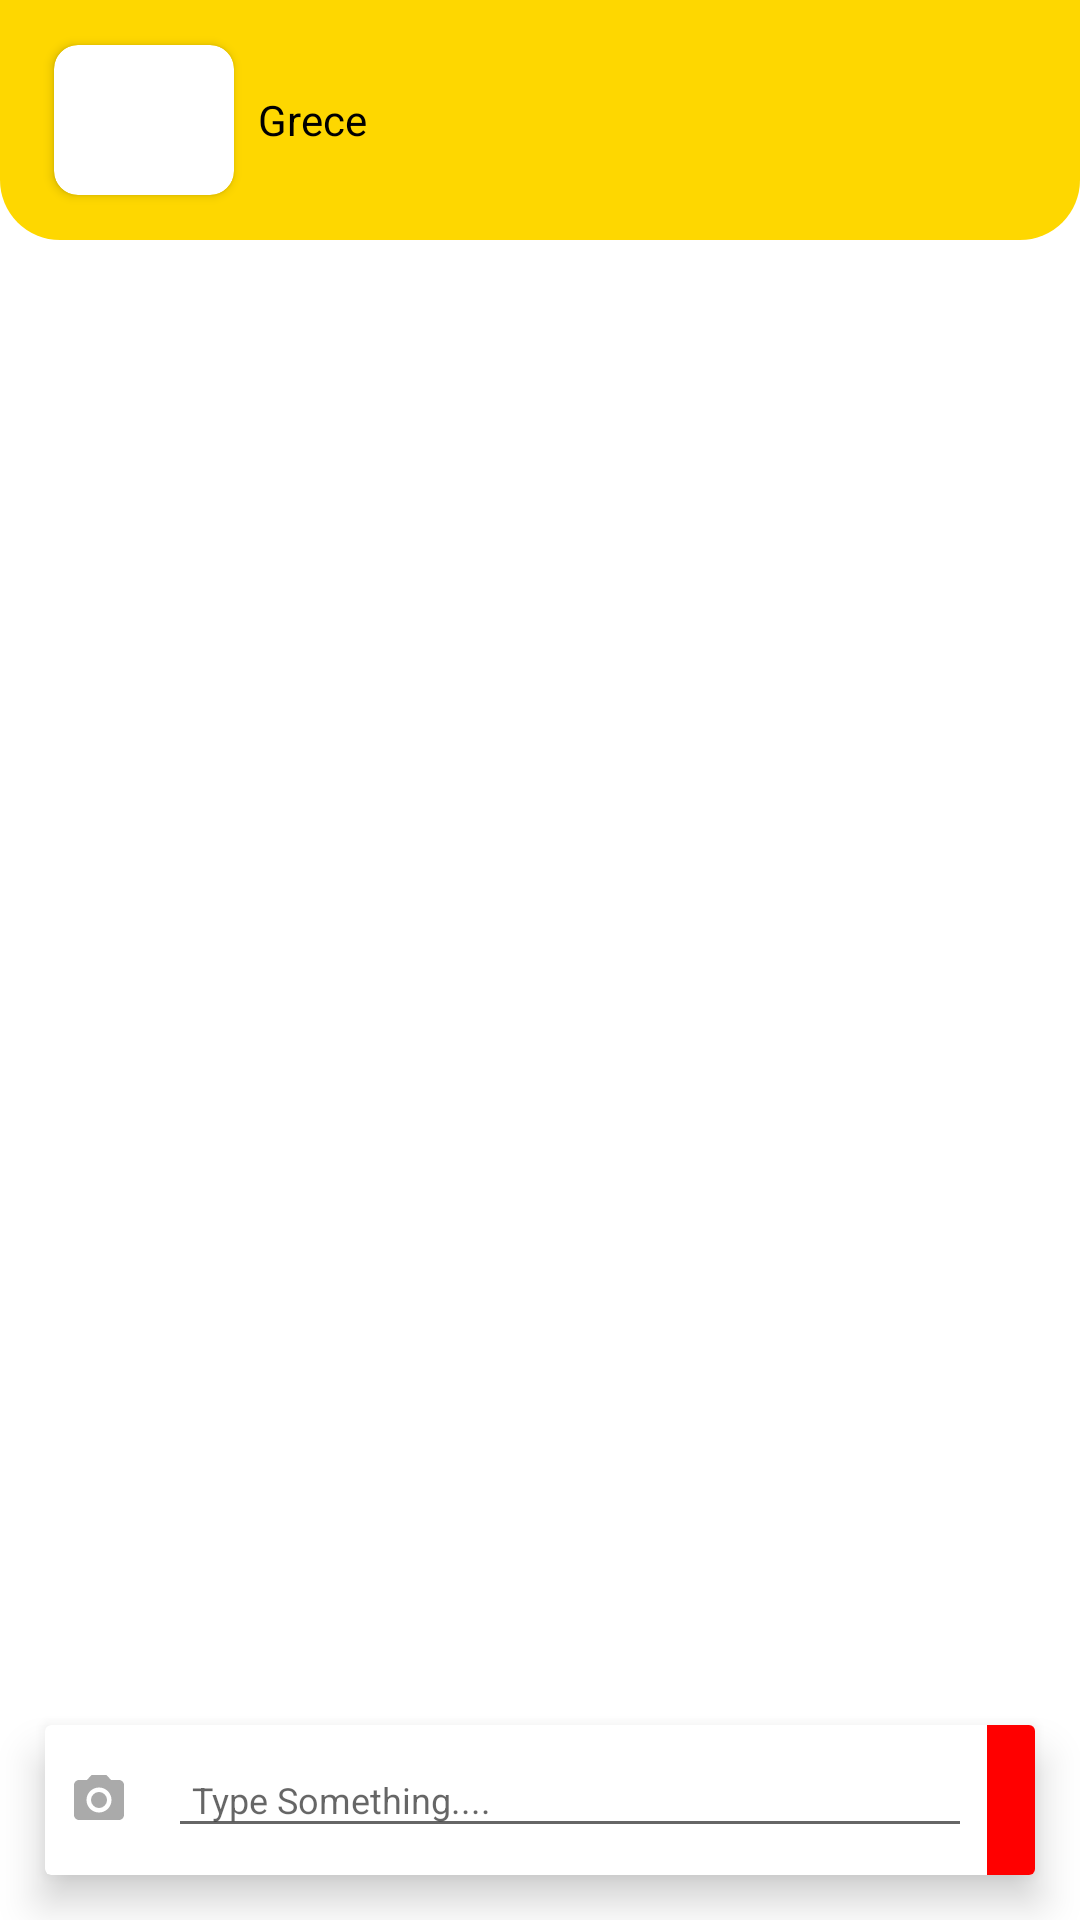

Icons on this 1080x1920 Android screen, each with the point to tap as (x=x, y=y):
camera: (x=99, y=1797)
